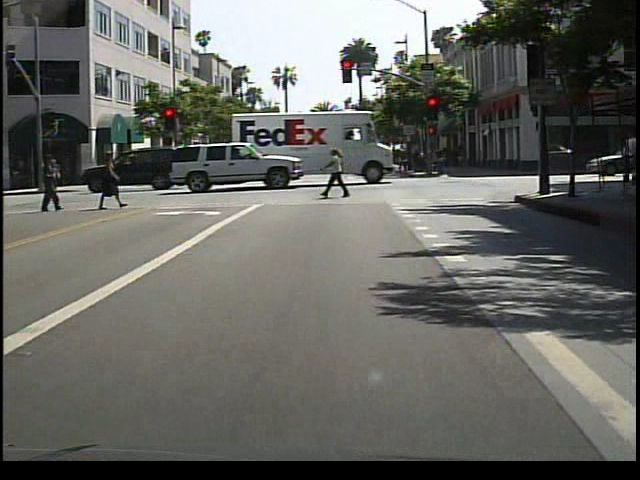person: (98, 150, 124, 213), (326, 147, 355, 203), (41, 154, 69, 212)
